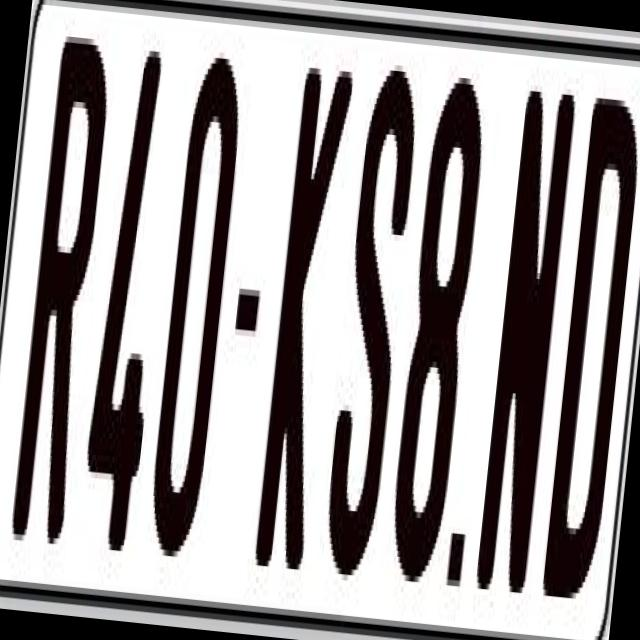0: (139, 49, 248, 581)
4: (74, 42, 182, 564)
8: (382, 64, 492, 602)
D: (540, 91, 640, 606)
K: (252, 56, 354, 570)
N: (468, 89, 574, 622)
R: (5, 29, 120, 568)
S: (316, 56, 428, 595)
